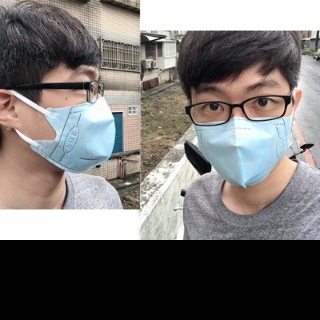with_mask: (191, 76, 294, 188), (31, 66, 119, 172)
